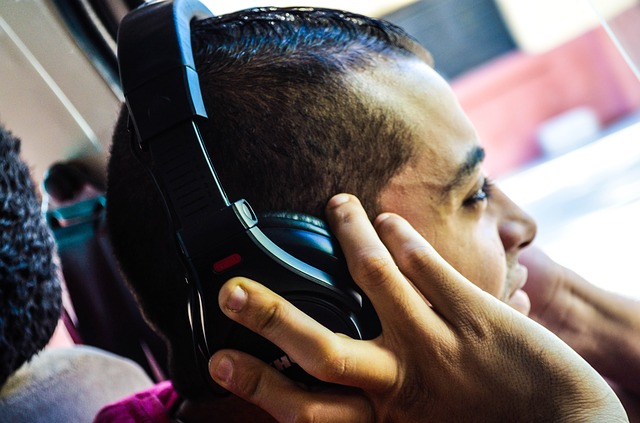headphones: (117, 1, 383, 380)
